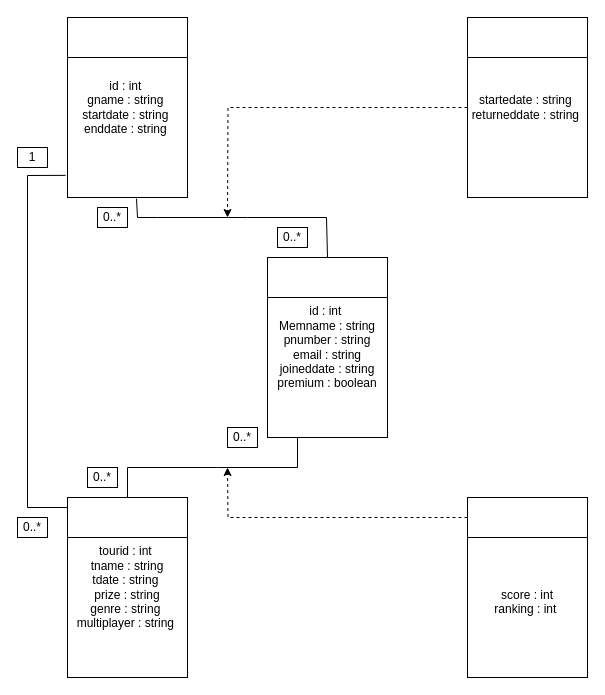
Some shapes in this 605 by 695 pixel diagram are drawn without their labels. The centre of each missing label's shape, as x and y in pixels:
"Game" goes at point (127, 37).
"Loan" goes at point (527, 37).
"Member" goes at point (327, 277).
"Result" goes at point (527, 517).
"Tournament" goes at point (127, 517).
